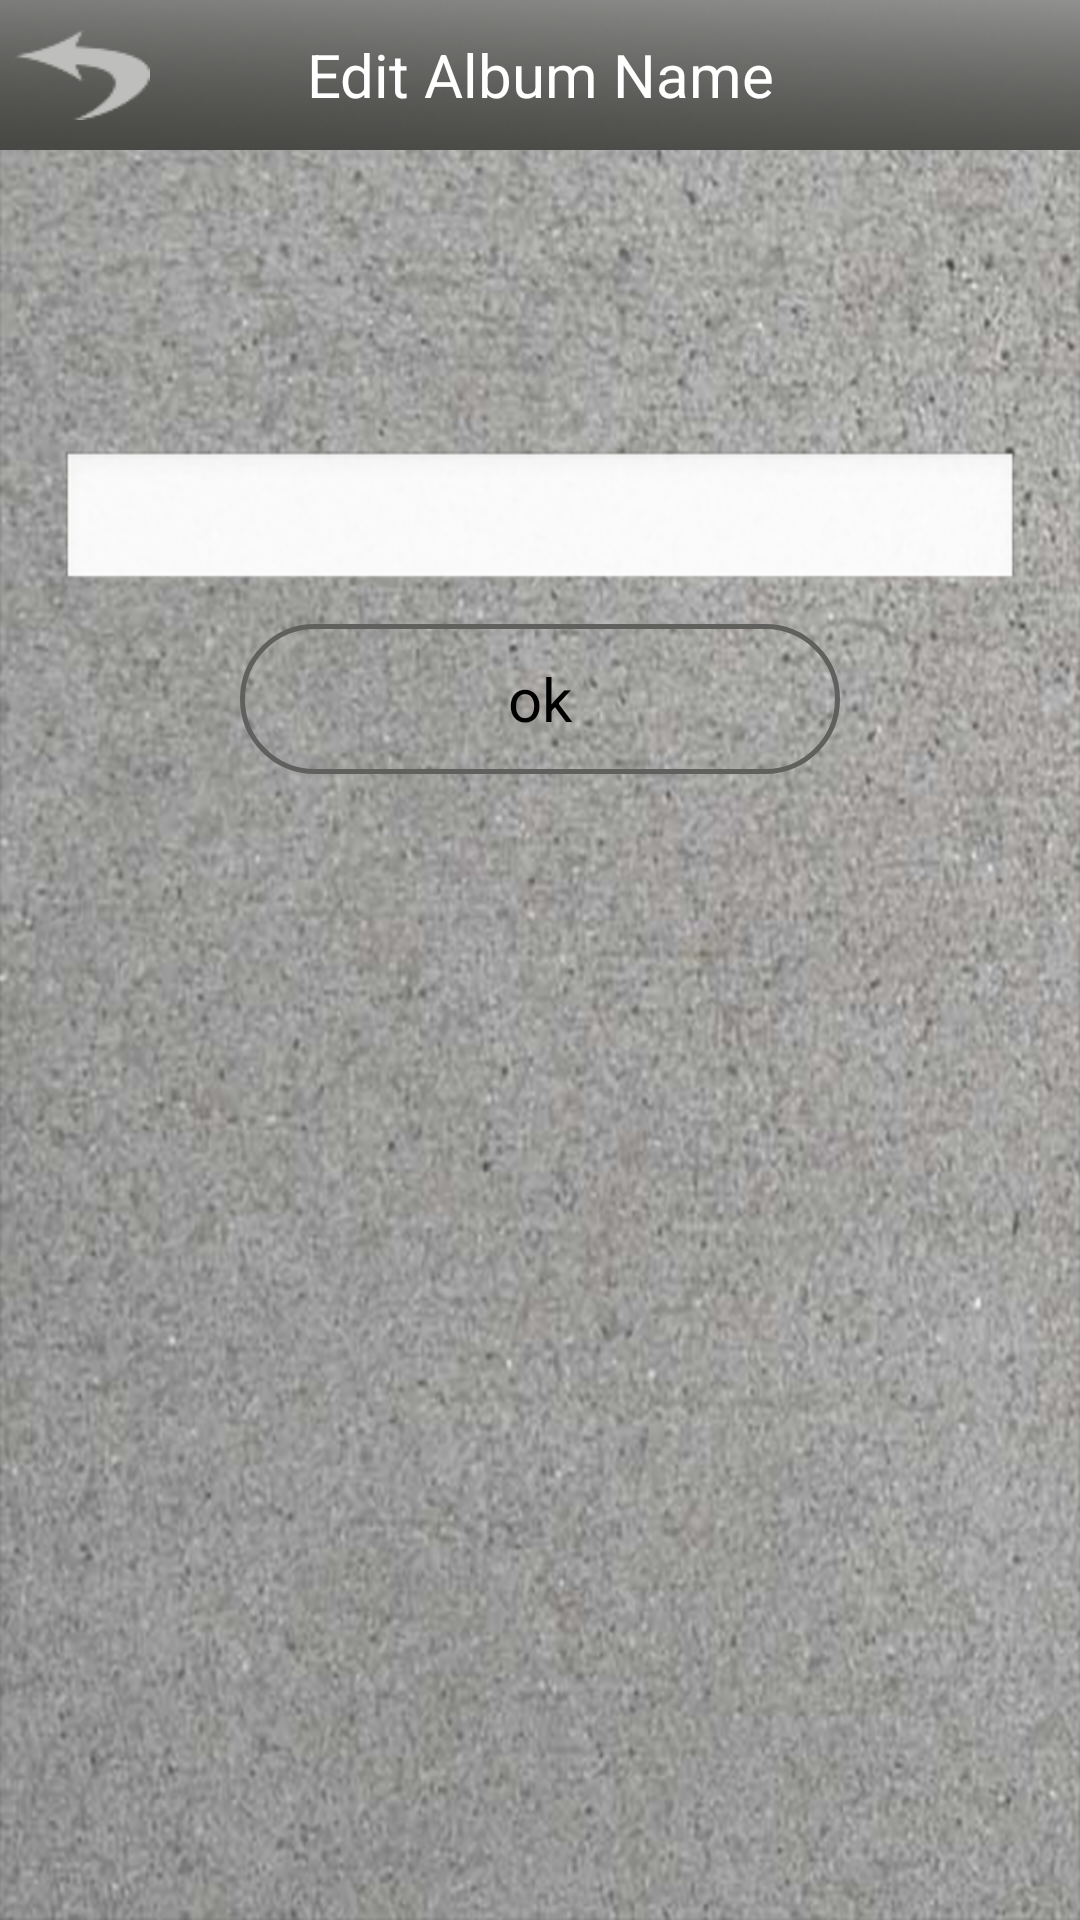

Named icons in this screenshot (1080×1920) and their centers, [x,y]:
backbutton: [82,75]
